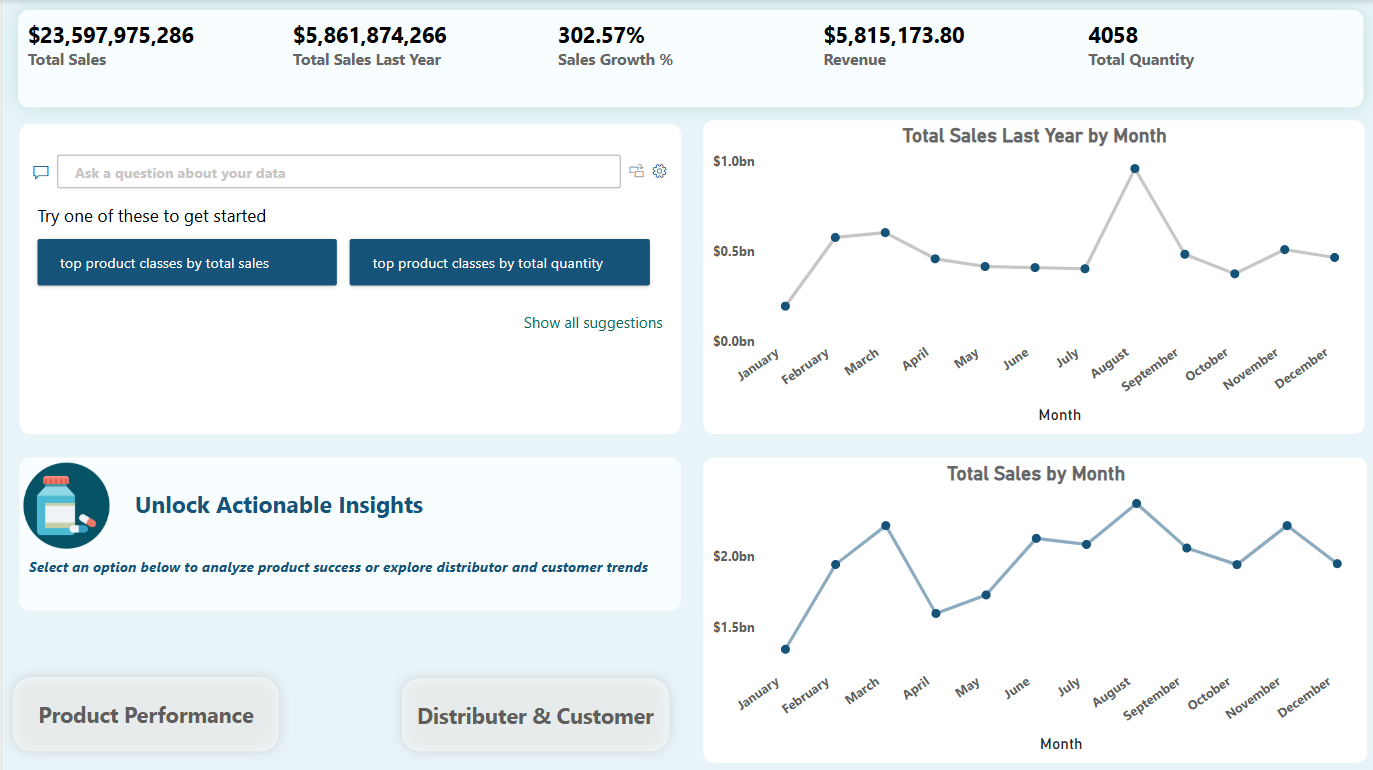

Layout of this report page (visuals, bound fields, positions):
{"tool":"powerbi","page":{"name":"Sales","canvas":[1280,720],"ordinal":0},"visuals":[{"type":"lineChart","fields":{"Y":["_Measures.Total Sales"],"Category":["Month.Month ","fSales.Year"]},"box":[652.6,426.1,617.7,284],"z":0},{"type":"actionButton","title":"fdf","box":[0,620,267.8,89.3],"z":1000},{"type":"lineChart","fields":{"Category":["Month.Month ","fSales.Year"],"Y":["_Measures.Total Sales Last Year"]},"box":[652.3,111.6,615.1,291.9],"z":2000},{"type":"actionButton","title":"fdf","box":[362,621.2,269,88],"z":3000},{"type":"multiRowCard","fields":{"Values":["_Measures.Total Sales","_Measures.Total Sales Last Year","_Measures.Sales Growth %","_Measures.Revenue","_Measures.Total Quantity"]},"box":[14.7,9.8,1251,90.5],"z":4000},{"type":"qnaVisual","box":[15.8,115,615.4,288.5],"z":5000},{"type":"textbox","box":[15.8,426.1,615.4,142],"z":6000},{"type":"image","box":[0,426.1,120.6,90.2],"z":7000}]}

Visuals, with their boxes in screenshot pixels (x1, y1, x2, y2), scaled from the page's 1280x720 canvas onto the 1373x770 screenshot:
lineChart - _Measures.Total Sales x Month.Month : box=[700, 456, 1363, 759]
"fdf" actionButton: box=[0, 663, 287, 759]
lineChart - Month.Month  x fSales.Year: box=[700, 119, 1359, 432]
"fdf" actionButton: box=[388, 664, 677, 758]
multiRowCard - _Measures.Total Sales x _Measures.Total Sales Last Year: box=[16, 10, 1358, 107]
qnaVisual: box=[17, 123, 677, 432]
textbox: box=[17, 456, 677, 608]
image: box=[0, 456, 129, 552]
